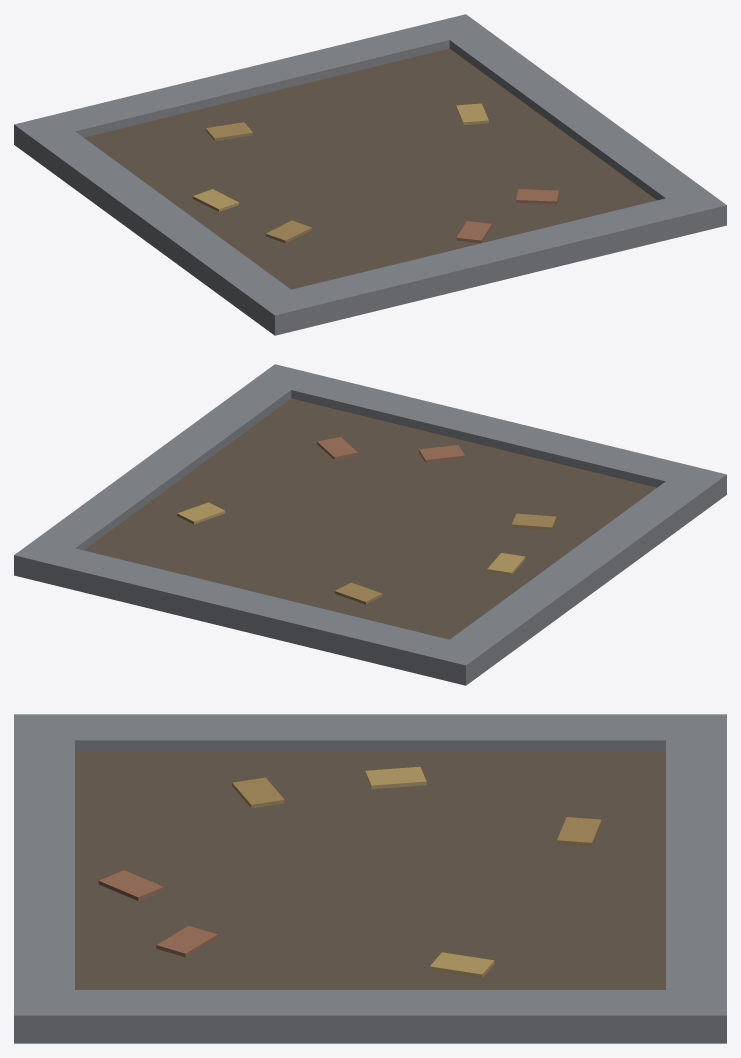
The model's file is alcorque.glb.
The picture shows the model from 3 angles, top to bottom: view 1: azimuth 30°, elevation 25°; view 2: azimuth 150°, elevation 25°; view 3: azimuth 270°, elevation 25°; orthographic projection. The views are drawn at different scales.
Visible parts, largest first — view 1: Alcorque; view 2: Alcorque; view 3: Alcorque.
Part boxes in pixels (x1,y1,x2,y2): Alcorque: [14, 14, 726, 335]; Alcorque: [14, 364, 726, 685]; Alcorque: [14, 714, 726, 1043].
Bounding box in the file's own units: 1.4 × 0.06 × 1.4.
